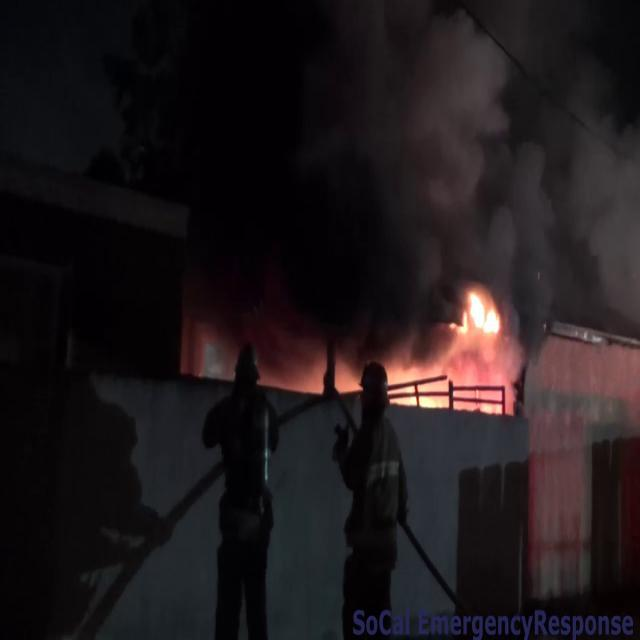Fire: (456, 284, 506, 350)
Smoke: (306, 0, 640, 340)
